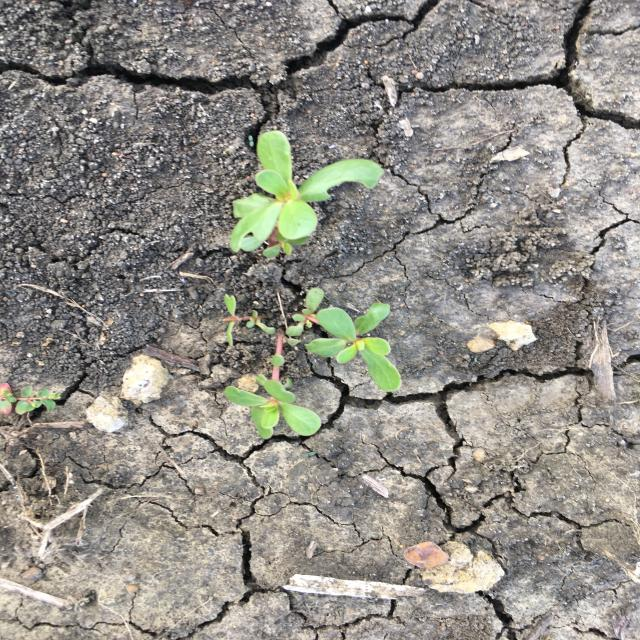Purslane: (215, 286, 408, 440), (226, 130, 384, 260)
SpottedSpurge: (1, 384, 64, 416)
